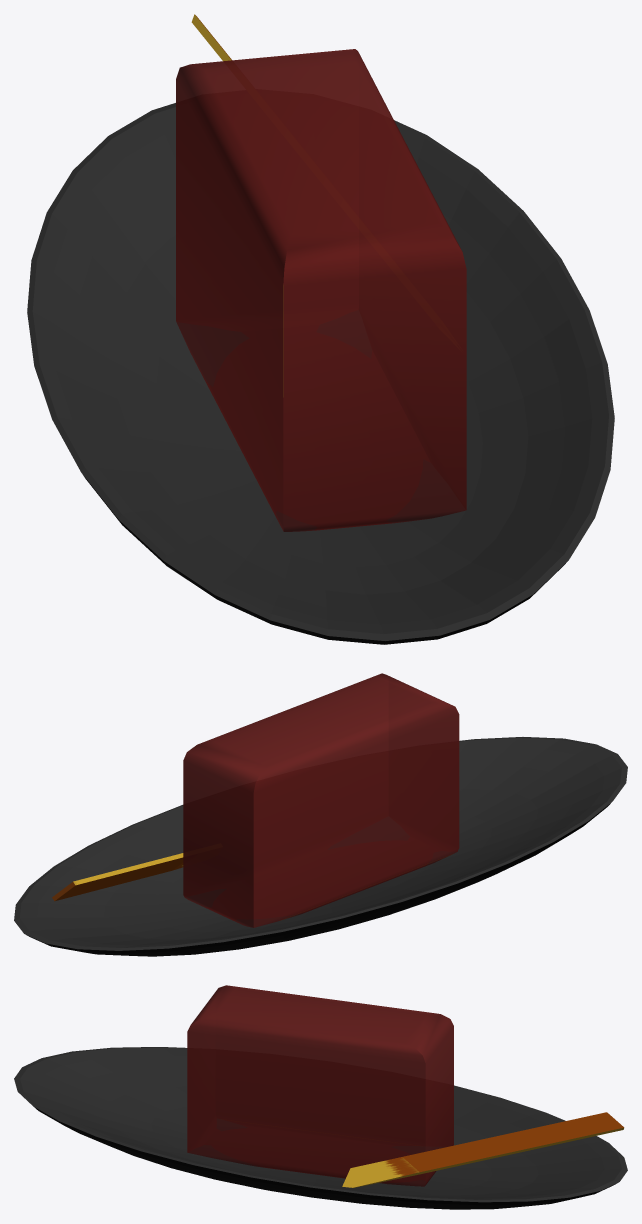
The model's file is youkann.fbx.
The picture shows the model from 3 angles, top to bottom: view 1: azimuth 30°, elevation 25°; view 2: azimuth 150°, elevation 25°; view 3: azimuth 270°, elevation 25°; orthographic projection. The views are drawn at different scales.
Visible parts, largest first — view 1: sara, youkann; view 2: youkann, sara, kuromoji; view 3: youkann, sara, kuromoji.
Part boxes in pixels (x1=…): sara: x1=27, y1=103, x2=614, y2=644; youkann: x1=176, y1=49, x2=466, y2=531; youkann: x1=183, y1=673, x2=459, y2=927; sara: x1=14, y1=737, x2=627, y2=956; kuromoji: x1=52, y1=853, x2=183, y2=901; youkann: x1=187, y1=985, x2=453, y2=1186; sara: x1=14, y1=1047, x2=627, y2=1209; kuromoji: x1=342, y1=1112, x2=624, y2=1187.
Bounding box in the file's own units: 23.53 × 11.02 × 39.27.
